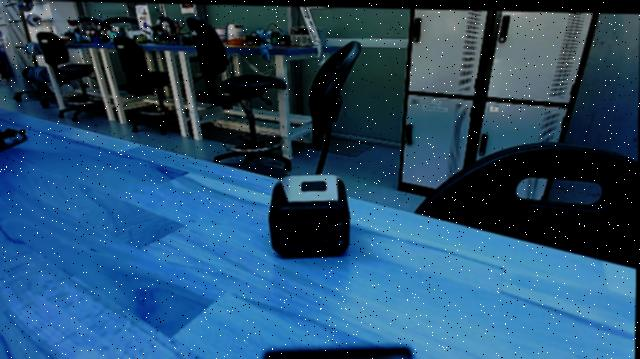adapter: (263, 171, 356, 264)
